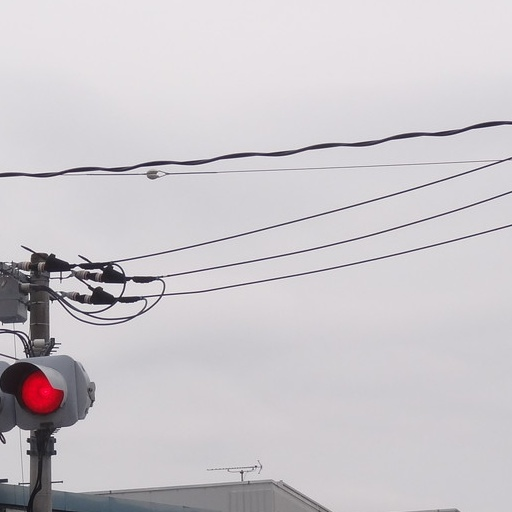Traffic_Signal_Red: (2, 349, 92, 428)
